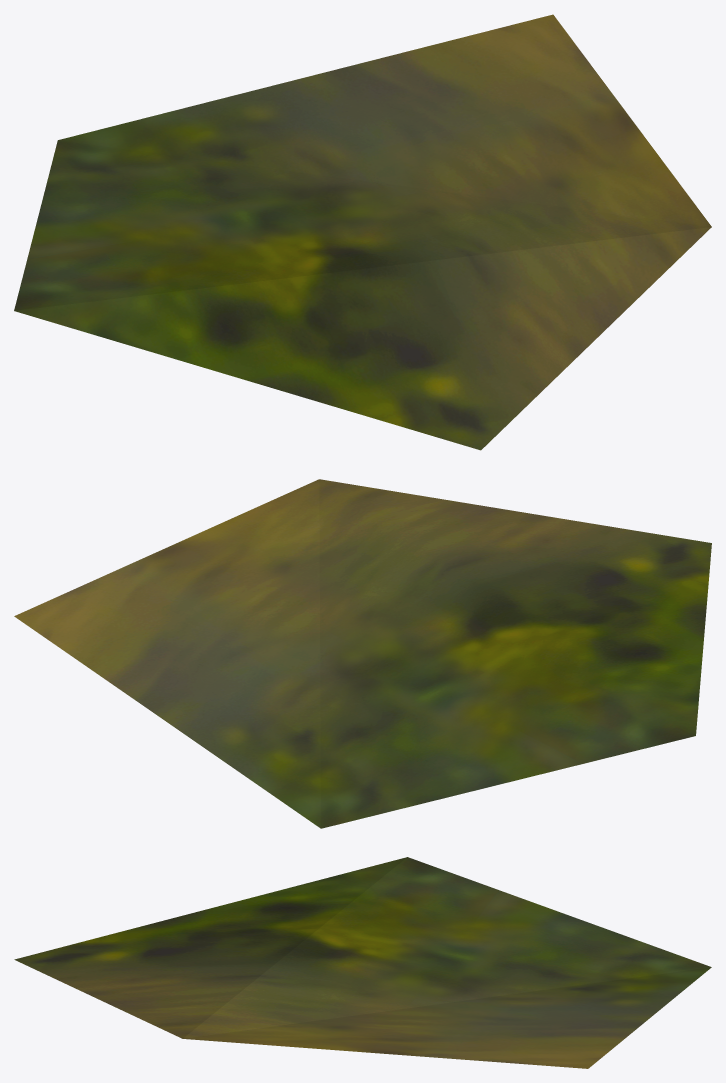
Rendered from Ridge_4_1_Top.gltf.
3 views of the same model, one above another, from view 1: azimuth 30°, elevation 25°; view 2: azimuth 150°, elevation 25°; view 3: azimuth 270°, elevation 25° (orthographic). The views are drawn at different scales.
Parts seen in each view (by area): view 1: Ridge_4_1_Top; view 2: Ridge_4_1_Top; view 3: Ridge_4_1_Top.
Boxes of the visible parts, bbox=[...] form: Ridge_4_1_Top: bbox=[14, 14, 711, 450]; Ridge_4_1_Top: bbox=[14, 479, 711, 828]; Ridge_4_1_Top: bbox=[14, 857, 711, 1068].
Bounding box in the file's own units: 16.93 × 1.97 × 19.37.
Materials: 1 (1 with a texture image).
